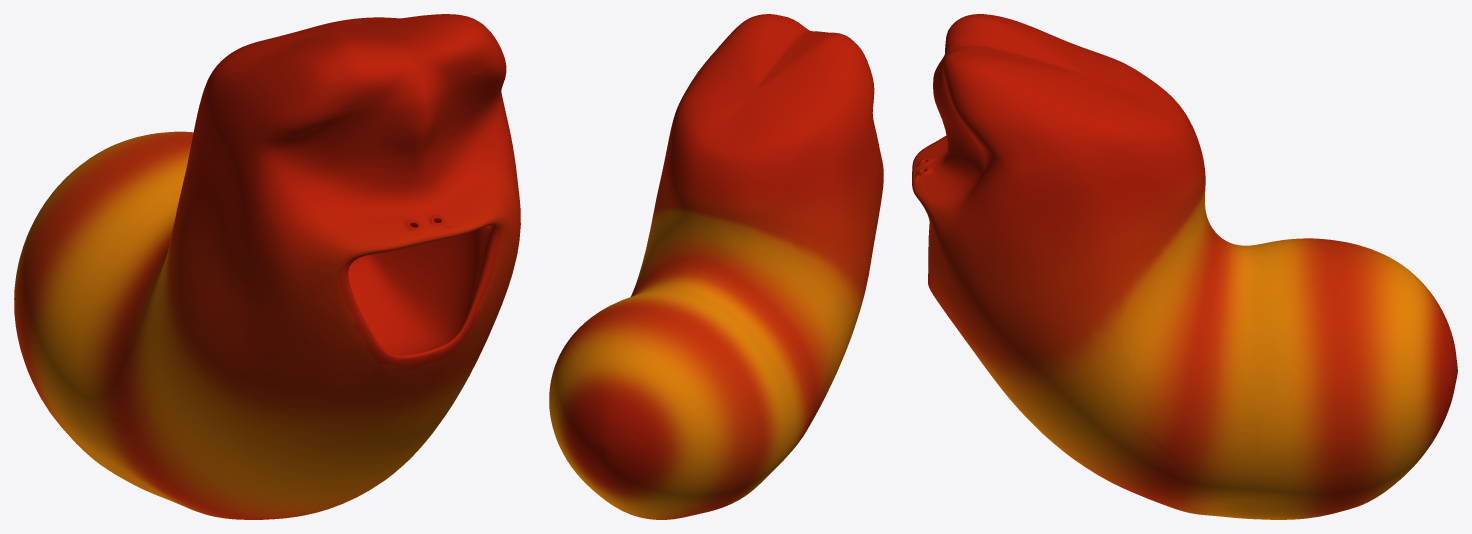
Rendered from REDLARVAGOATED.obj.
3 views of the same model, side by side, from view 1: azimuth 30°, elevation 25°; view 2: azimuth 150°, elevation 25°; view 3: azimuth 270°, elevation 25° (orthographic). The views are drawn at different scales.
Parts seen in each view (by area): view 1: body; view 2: body; view 3: body.
Part boxes in pixels (left/top/right/bottom): body: left=14, top=14, right=520, bottom=519; body: left=549, top=14, right=883, bottom=519; body: left=912, top=14, right=1457, bottom=519.
Size of the model in its own units: 4.25 by 7.28 by 7.81.
